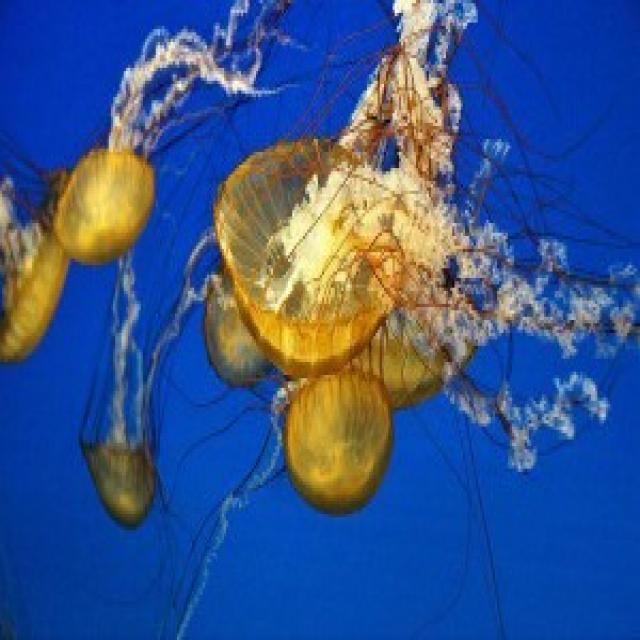Jellyfish: (217, 121, 393, 358), (289, 383, 394, 554), (63, 138, 164, 276), (67, 428, 178, 536), (386, 300, 492, 405), (0, 211, 63, 376), (202, 266, 266, 392)
